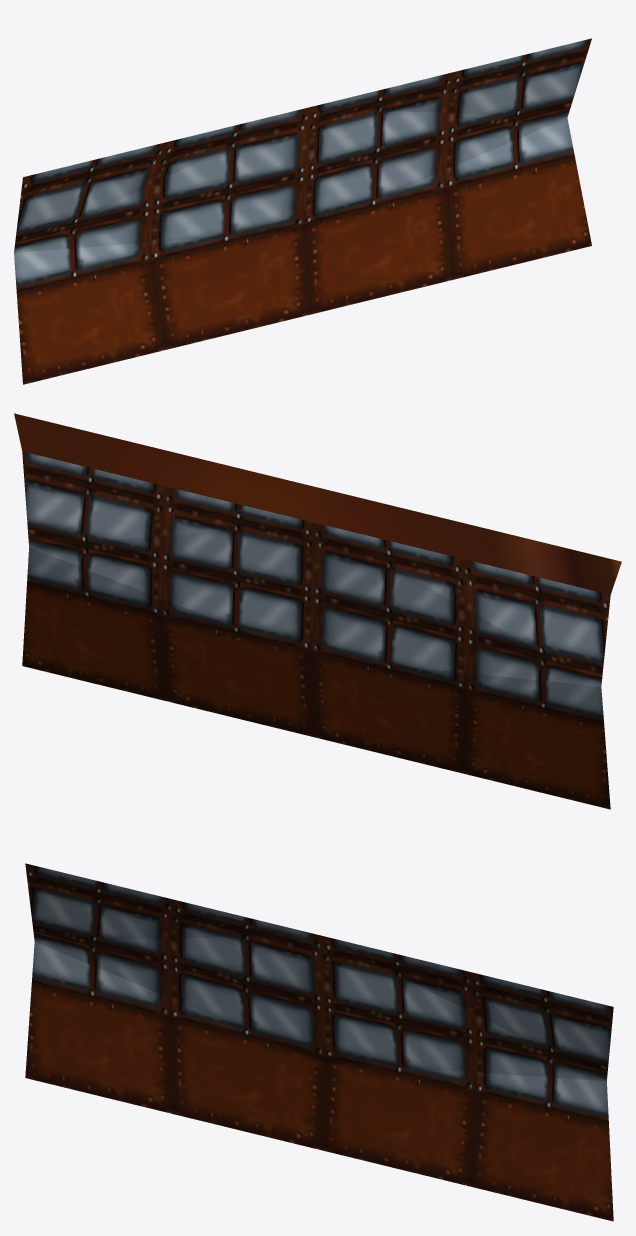
Rendered from W_A2r_xxxx [BraunesGlas]_873.glb.
3 views of the same model, one above another, from view 1: azimuth 30°, elevation 25°; view 2: azimuth 150°, elevation 25°; view 3: azimuth 330°, elevation 25° (orthographic). The views are drawn at different scales.
Parts seen in each view (by area): view 1: polySurfaceShape787; view 2: polySurfaceShape787, polySurfaceShape1065; view 3: polySurfaceShape787.
Part boxes in pixels (x1=…): polySurfaceShape787: x1=14, y1=38, x2=591, y2=384; polySurfaceShape787: x1=22, y1=451, x2=610, y2=809; polySurfaceShape1065: x1=14, y1=413, x2=621, y2=594; polySurfaceShape787: x1=25, y1=863, x2=613, y2=1221.
Bounding box in the file's own units: 1.03 × 0.3891 × 0.0607.
2 materials, 2 textured.
